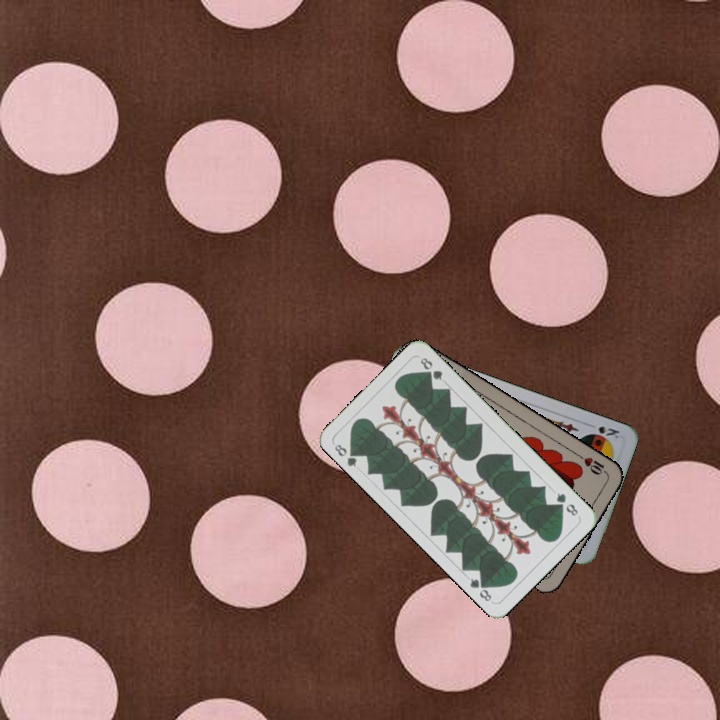G8: (330, 440, 362, 470), (552, 488, 581, 519)
H10: (574, 450, 610, 478)
SK: (584, 419, 622, 441)
